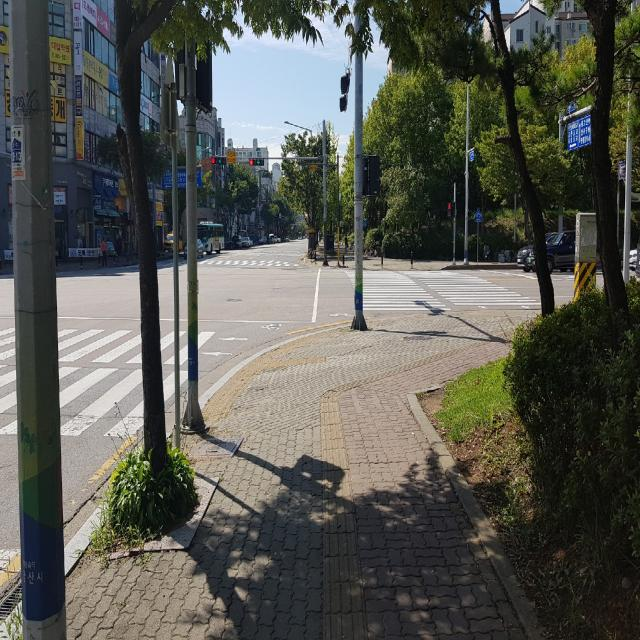빨간불: (447, 201, 452, 224)
횡단보도: (0, 327, 212, 434), (343, 270, 541, 311), (202, 258, 296, 264)
